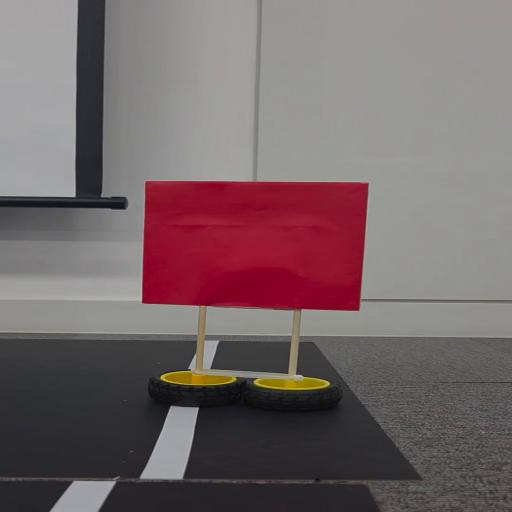Sign_A: (133, 178, 386, 419)
